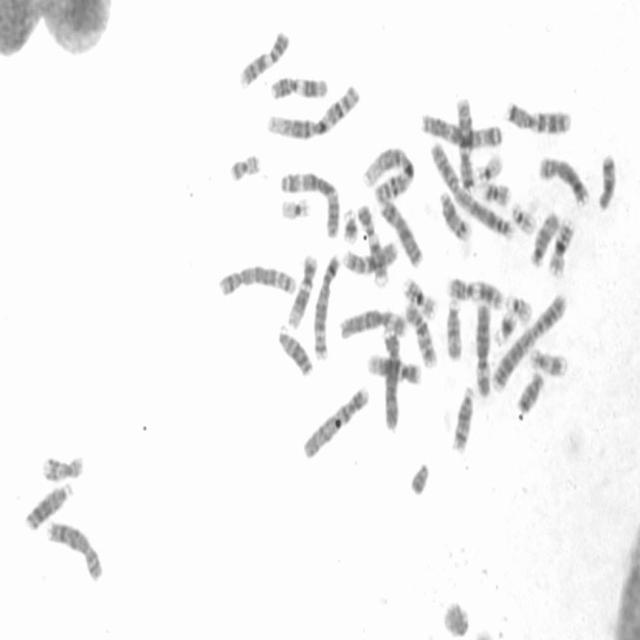A1: (266, 83, 363, 141), (362, 144, 417, 203)
A2: (430, 141, 515, 240), (490, 292, 568, 396)
A3: (280, 169, 342, 240), (419, 110, 504, 150)
B4: (299, 382, 372, 462), (381, 324, 401, 432)
B5: (311, 253, 341, 362), (218, 265, 298, 299)
C10: (404, 299, 440, 371), (342, 240, 401, 276)
C11: (447, 274, 503, 310), (269, 74, 330, 103)
C12: (286, 251, 318, 331), (365, 353, 426, 388)
C6: (339, 308, 408, 343), (474, 303, 493, 397)
C7: (504, 100, 573, 136), (453, 94, 477, 190)
C8: (46, 516, 104, 582), (538, 154, 591, 208)
C9: (238, 28, 293, 90), (356, 202, 391, 288)
D13: (22, 482, 74, 534), (277, 324, 315, 377)
D14: (438, 187, 472, 243), (451, 383, 474, 455)
D15: (528, 207, 561, 270), (445, 299, 464, 363)
E16: (546, 217, 578, 280), (402, 274, 438, 320)
E17: (527, 349, 571, 380), (41, 452, 84, 483)
E18: (596, 149, 619, 214), (514, 370, 546, 416)
F19: (472, 152, 507, 186), (280, 194, 312, 224)
F20: (229, 153, 262, 185), (483, 179, 512, 209)
G21: (493, 308, 519, 350), (342, 207, 359, 246)
G22: (503, 288, 534, 324), (509, 204, 537, 236)
X: (379, 198, 425, 271)
Y: (409, 462, 432, 498)
